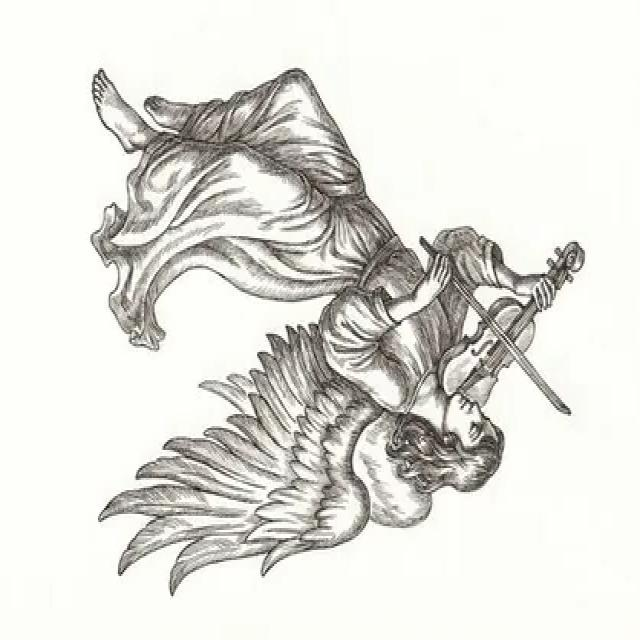angel: (76, 31, 606, 604)
